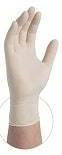gloves: (2, 4, 59, 129)
